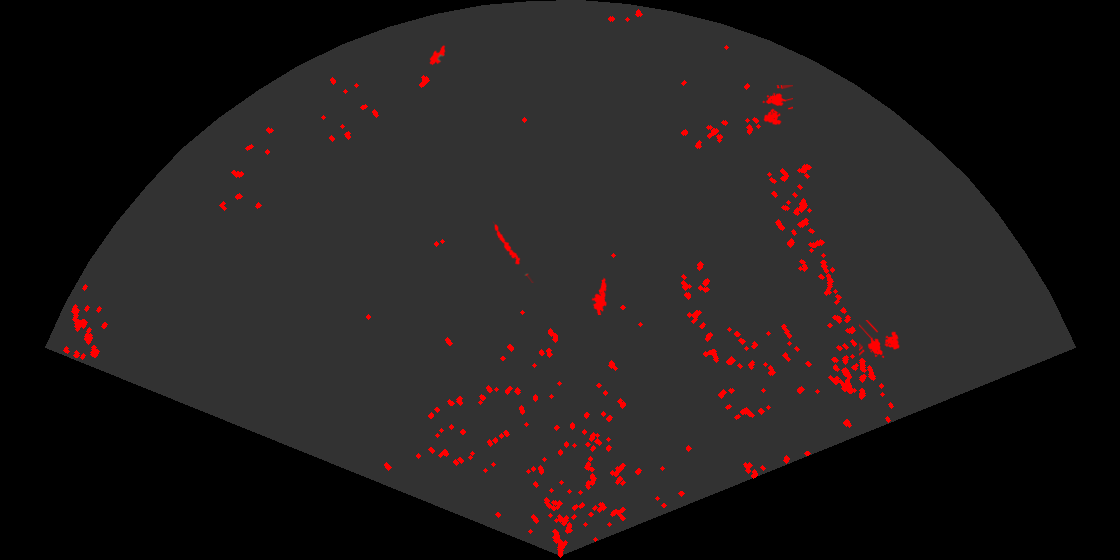AUV: (428, 44, 447, 67)
cage: (859, 320, 901, 360), (761, 85, 793, 127)
chain: (491, 220, 534, 283)
frogman: (590, 277, 608, 315)
